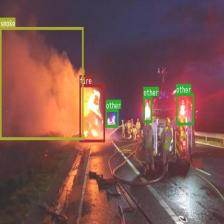fire: (79, 84, 105, 142)
smoke: (0, 26, 83, 139)
